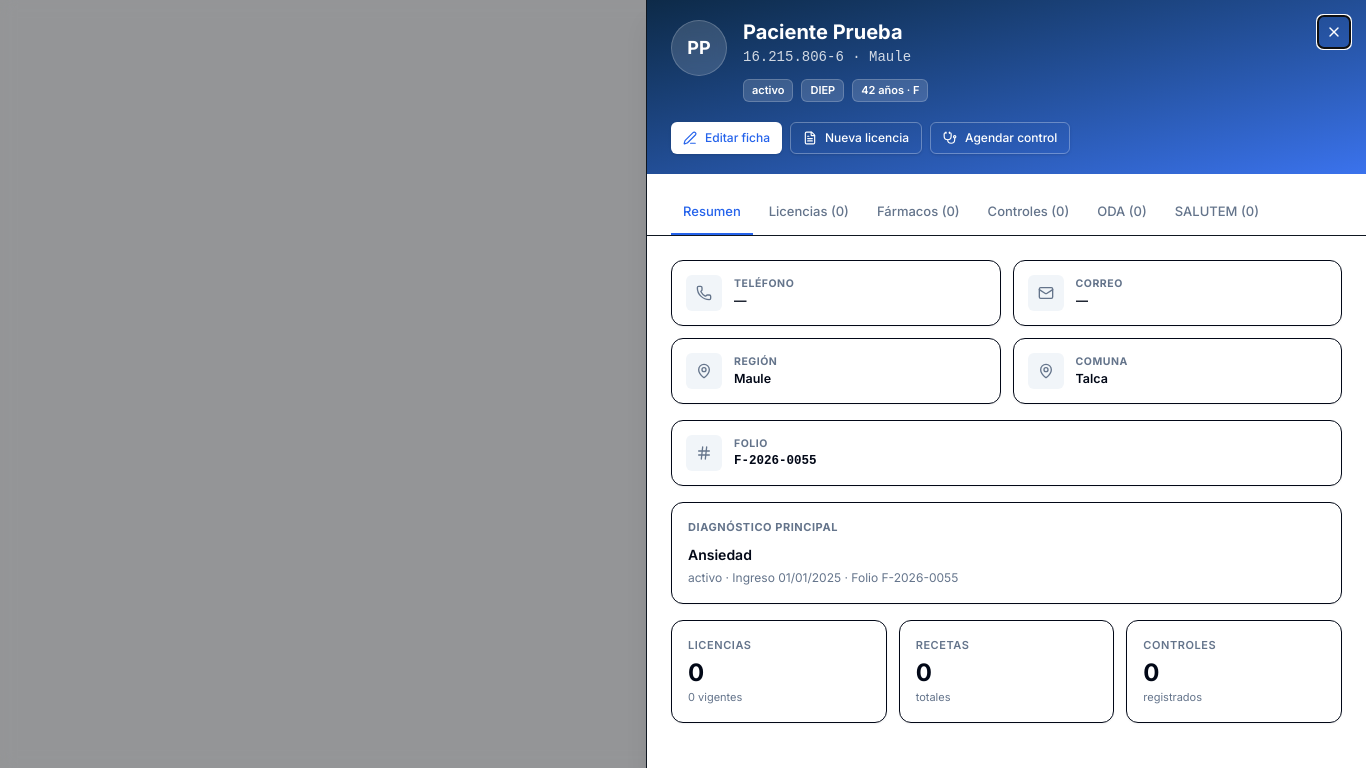
PatientSheet — pestaña SALUTEM › importa desde SALUTEM, informa cuántas atenciones trajo y las muestra
Expected: the heading "Paciente Prueba" is shown, x1=743 y1=20 x2=902 y2=44
Click the tab "SALUTEM (0)". click: point(1217, 212)
box: x1=1163 y1=190 x2=1271 y2=235
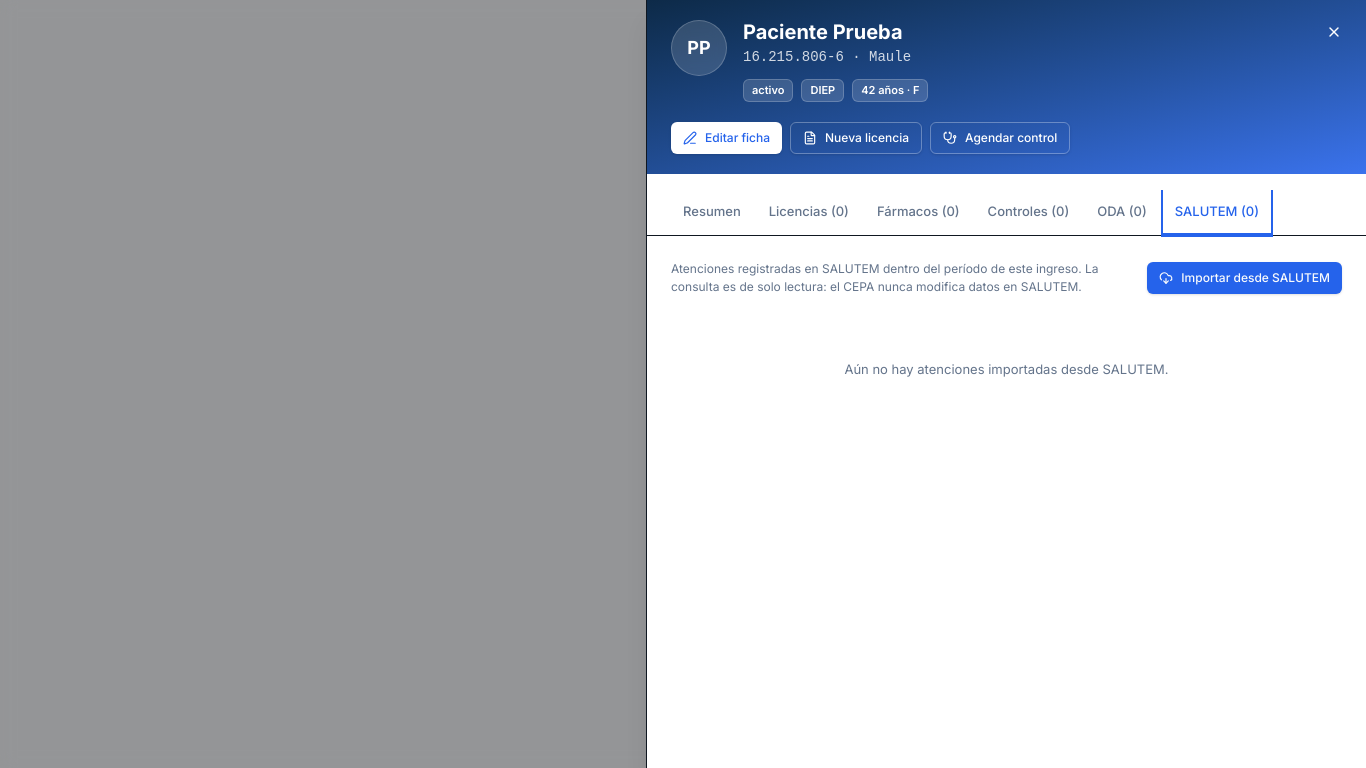
Click the button "Importar desde SALUTEM". click: point(1245, 278)
box: x1=1147 y1=262 x2=1342 y2=294
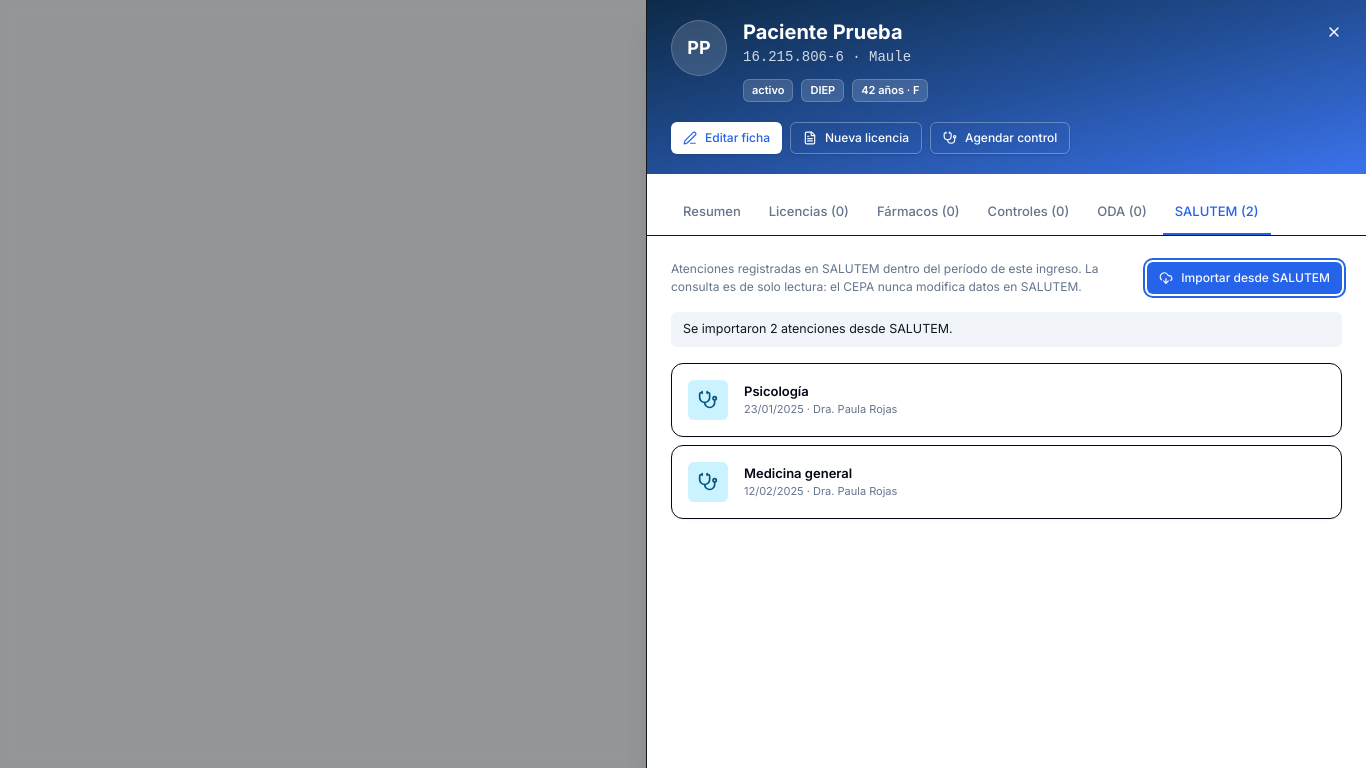
Now the message shows "2 atenciones", box x1=683 y1=321 x2=953 y2=336
Now the text "Medicina general" is shown, box x1=744 y1=465 x2=852 y2=481
